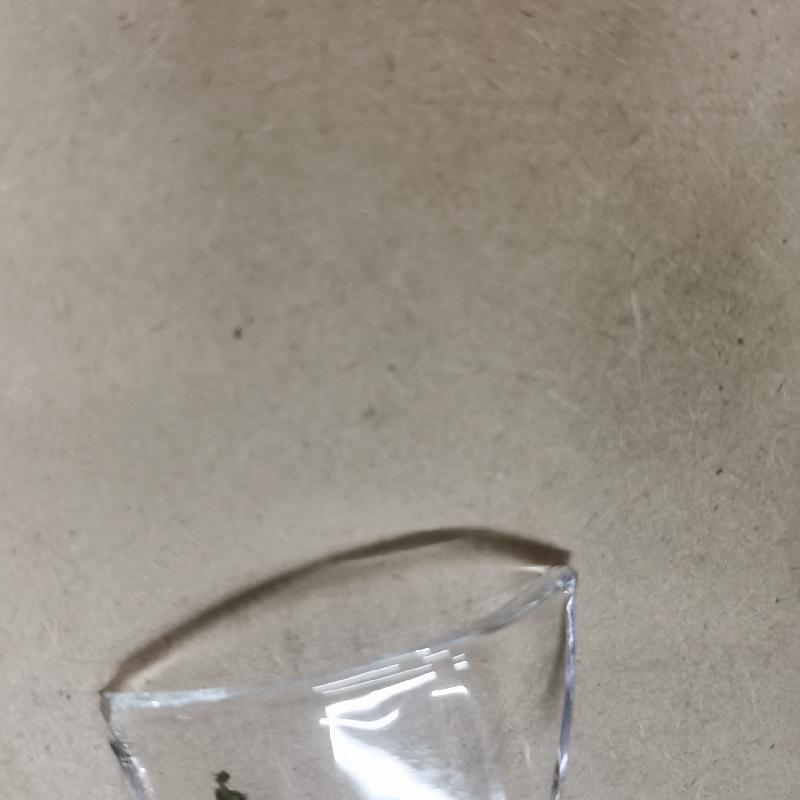glass: (94, 559, 578, 800)
